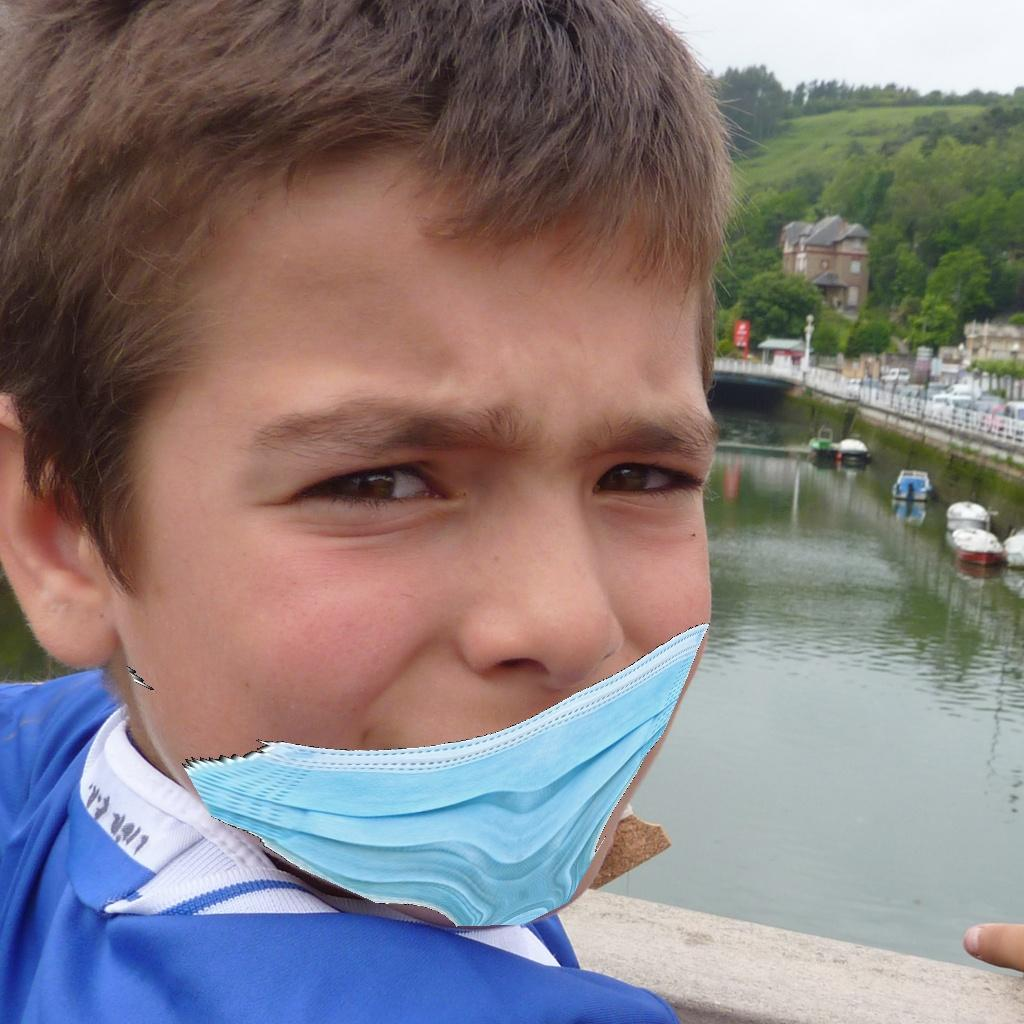Máscara Incorreta: (155, 295, 736, 897)
